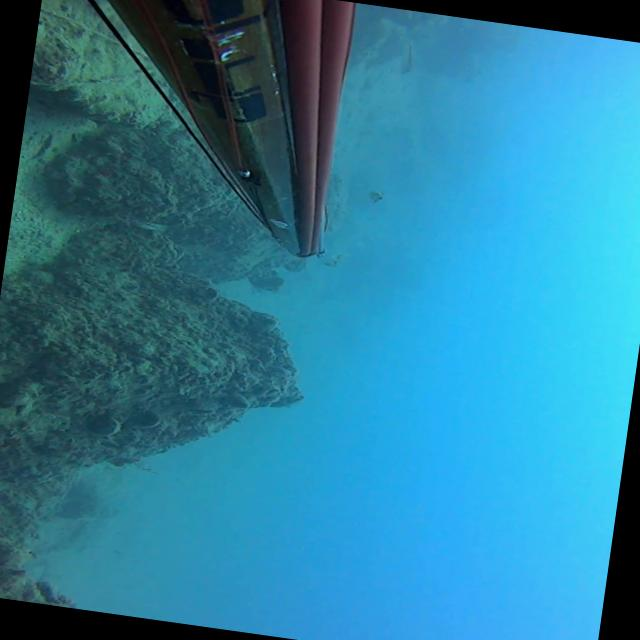Balon Baligi: (398, 37, 417, 74), (324, 251, 344, 267), (368, 189, 386, 203)
